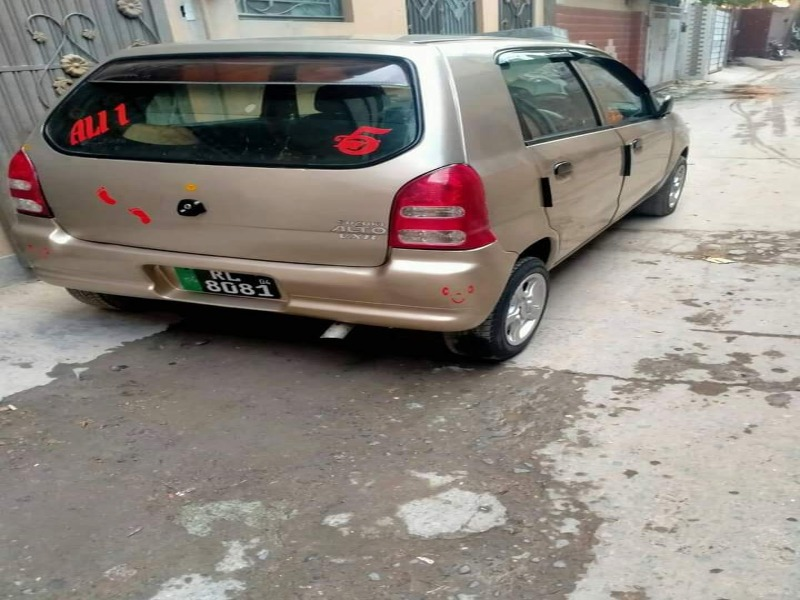License Plate: (172, 261, 287, 308)
